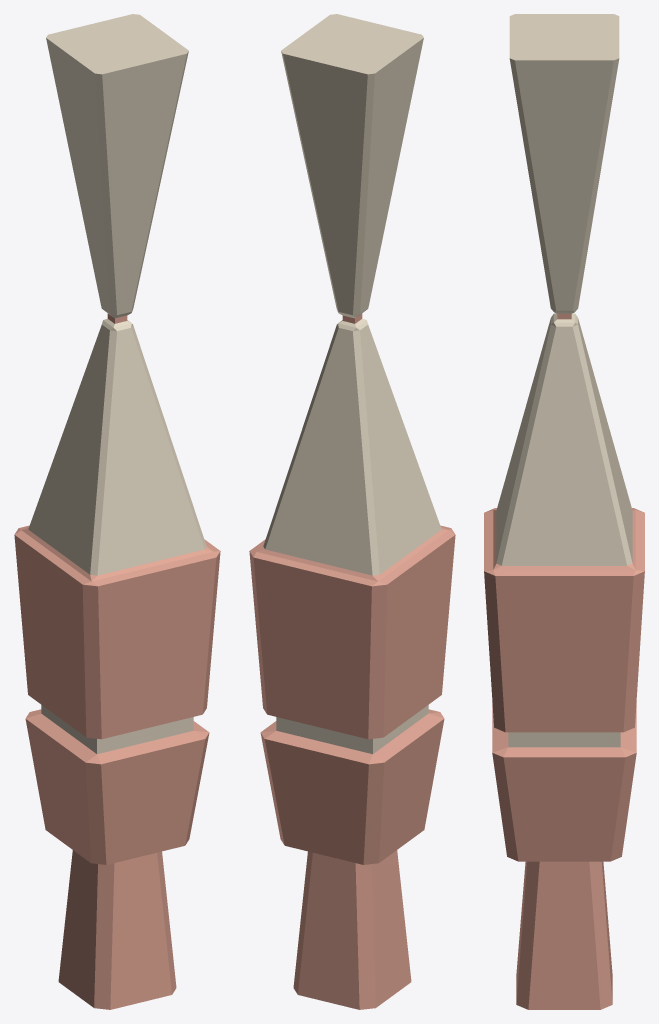
File: Pillar2.fbx
The picture shows the model from 3 angles, left to right: view 1: azimuth 30°, elevation 25°; view 2: azimuth 150°, elevation 25°; view 3: azimuth 270°, elevation 25°; orthographic projection.
Parts seen in each view (by area): view 1: Cube; view 2: Cube; view 3: Cube.
Part boxes in pixels (x1,y1,x2,y2): Cube: [14, 14, 220, 1009]; Cube: [249, 14, 455, 1009]; Cube: [484, 14, 644, 1009].
Bounding box in the file's own units: 781 × 5091 × 780.
